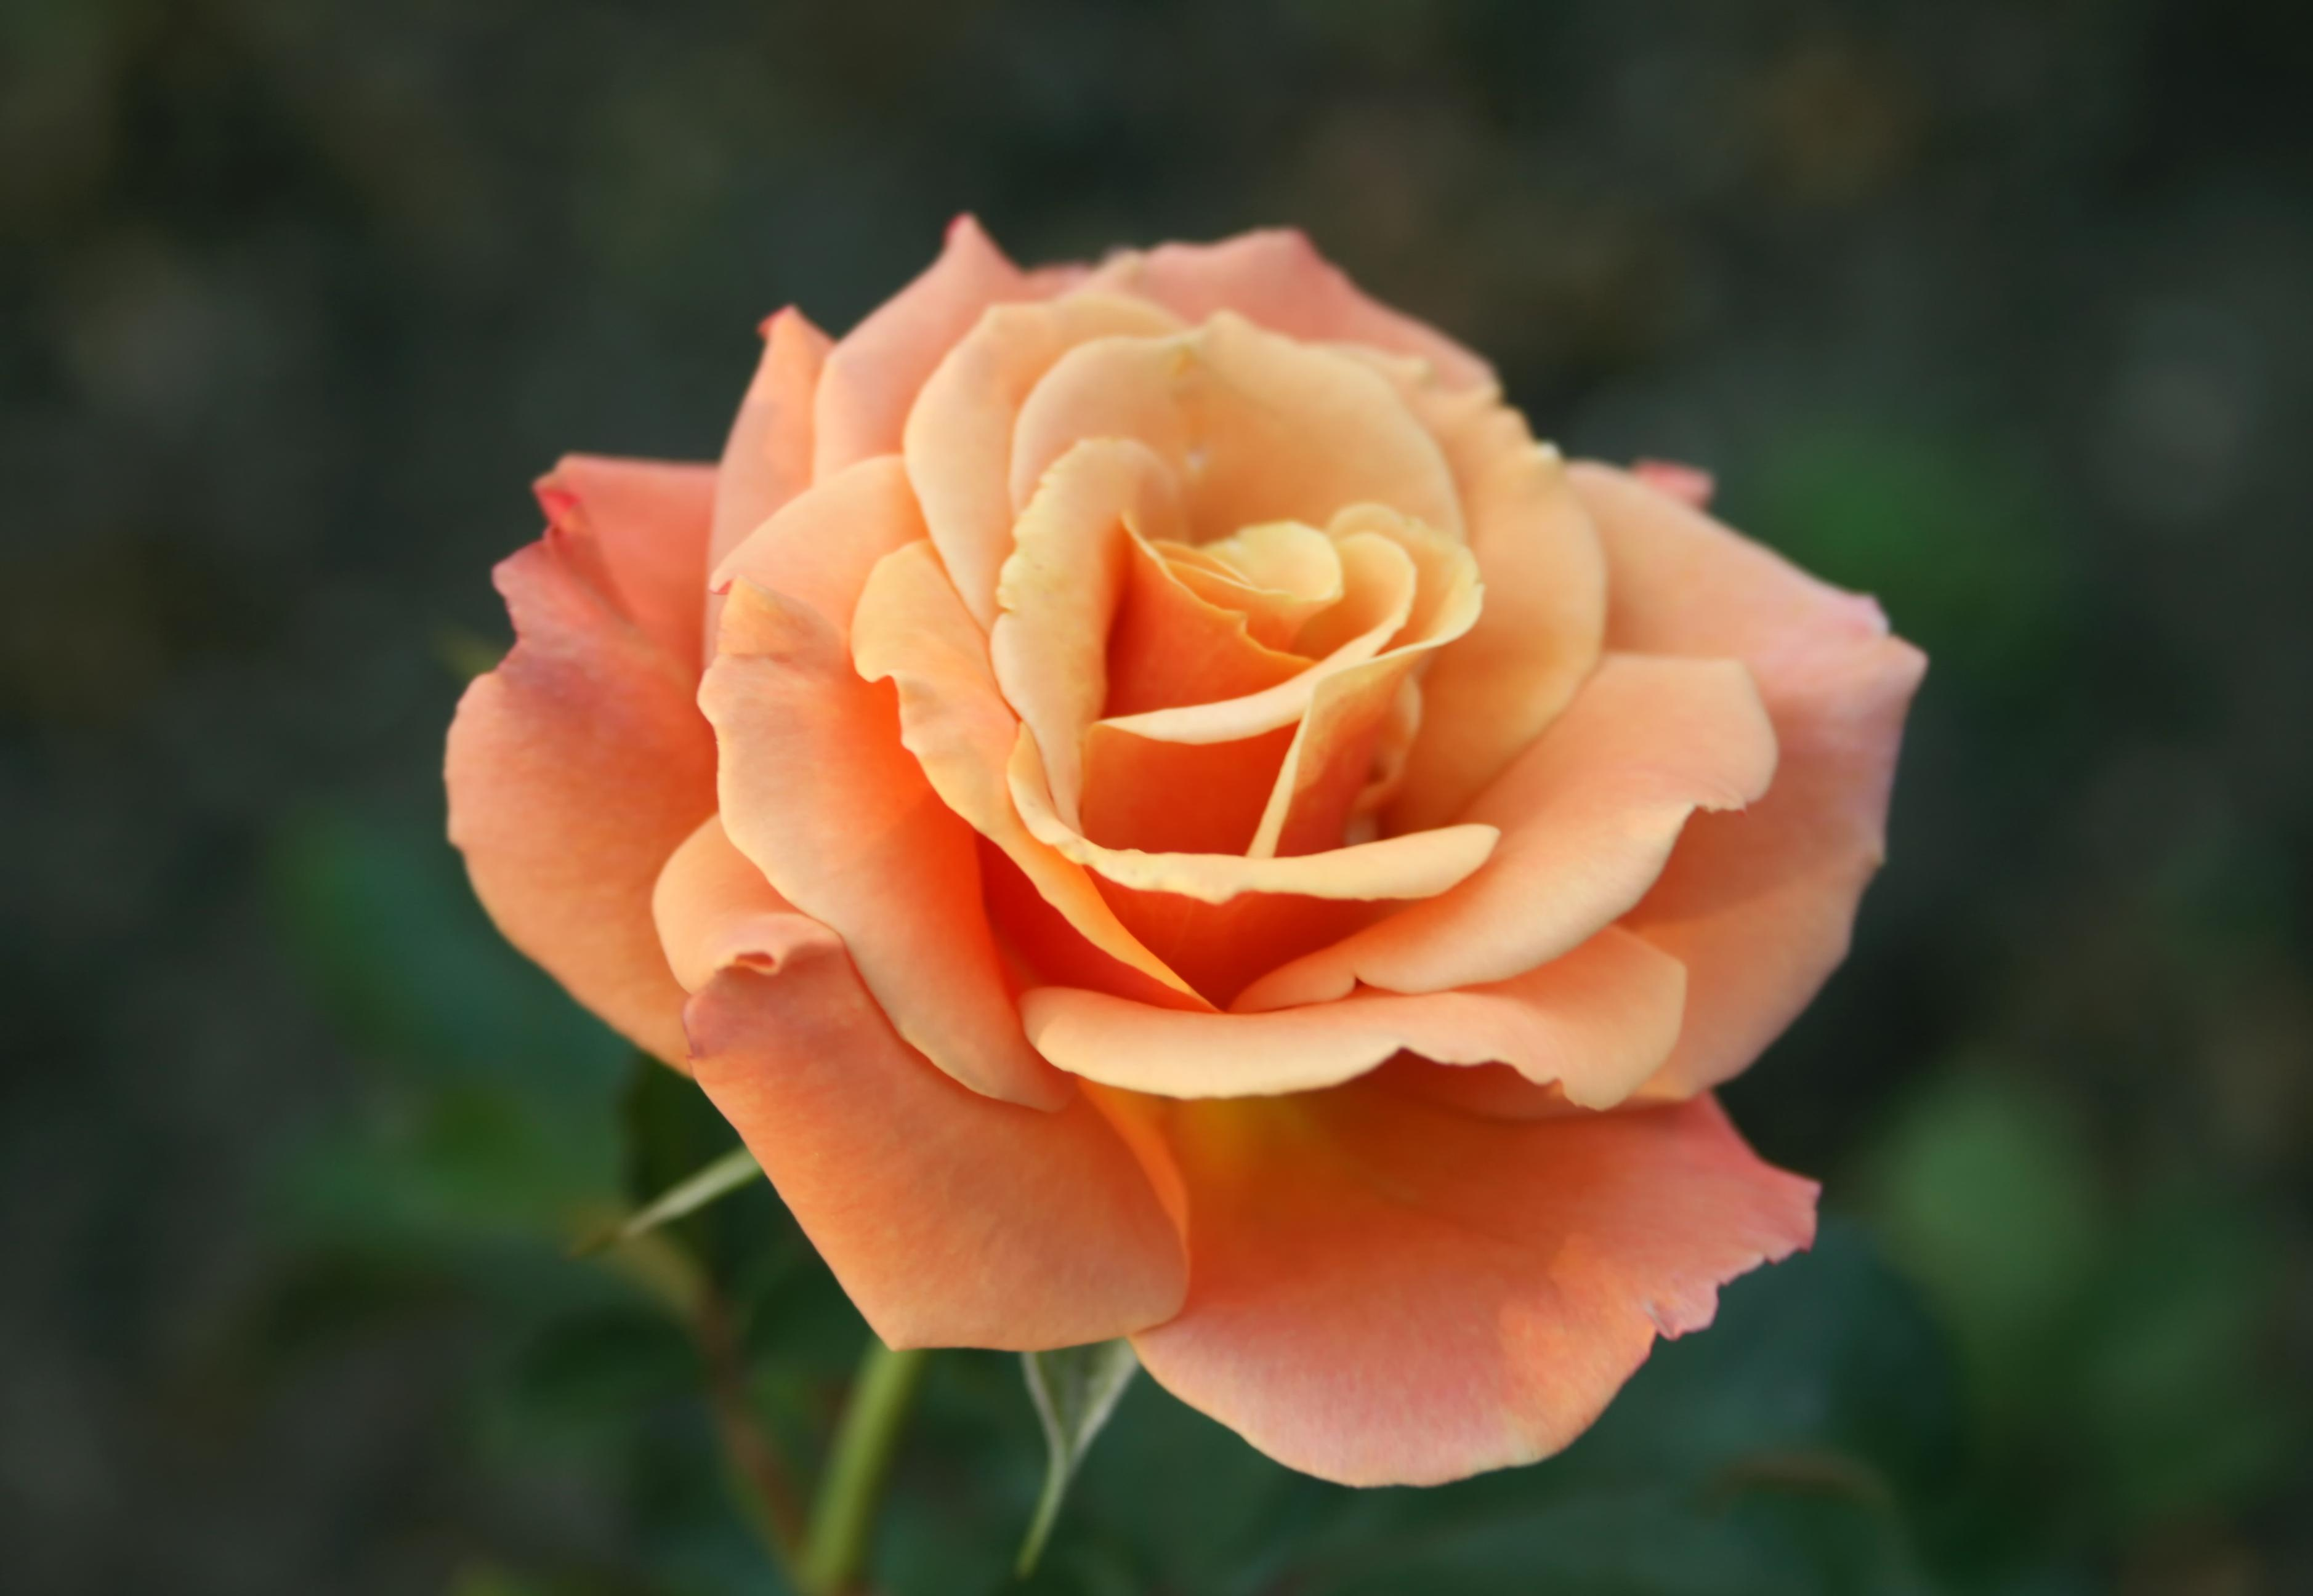Rose: (473, 220, 1916, 1503)
